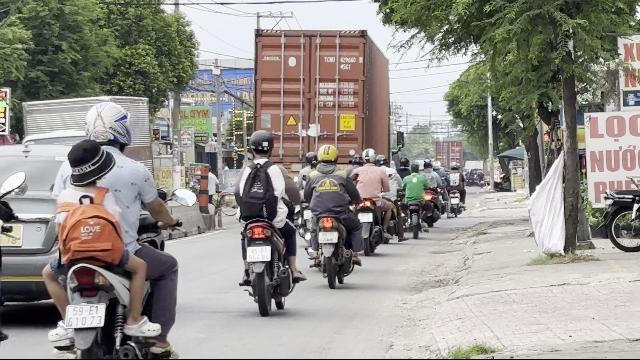helmet: (82, 100, 132, 151), (247, 129, 275, 159), (316, 144, 338, 166), (360, 147, 376, 163), (304, 151, 316, 165)
licenseplate: (64, 302, 106, 328), (248, 246, 270, 262), (318, 232, 338, 242), (358, 214, 372, 222)
motorcyclist: (36, 99, 184, 356), (231, 127, 303, 314), (301, 142, 364, 286), (352, 148, 396, 254)
nohelmet: (64, 140, 116, 188)
